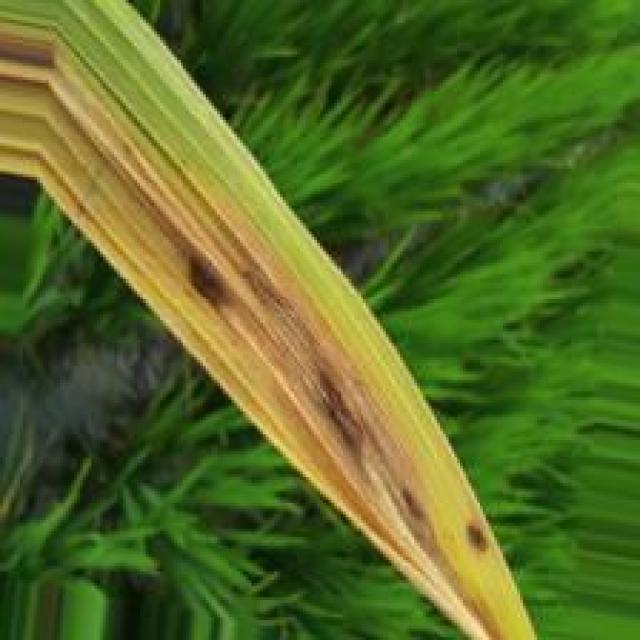Rice Tungro: (308, 364, 384, 501), (186, 244, 243, 315), (392, 478, 436, 534), (465, 520, 489, 557)
